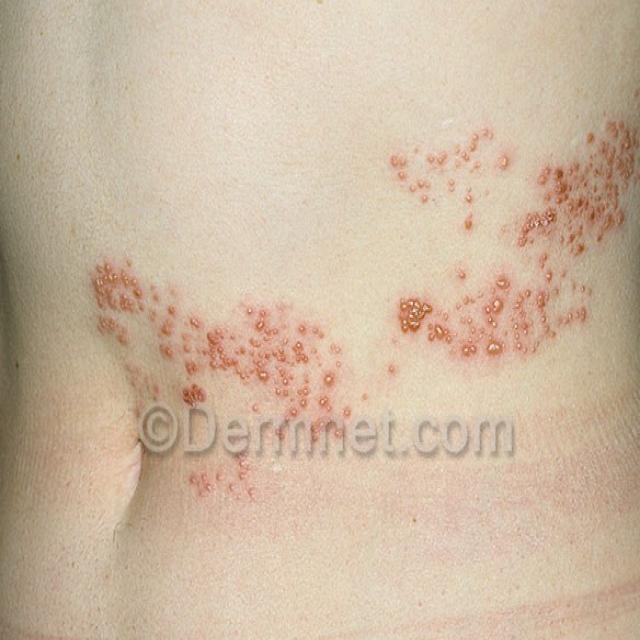Viral Infections: (85, 239, 353, 526), (372, 111, 640, 356)
